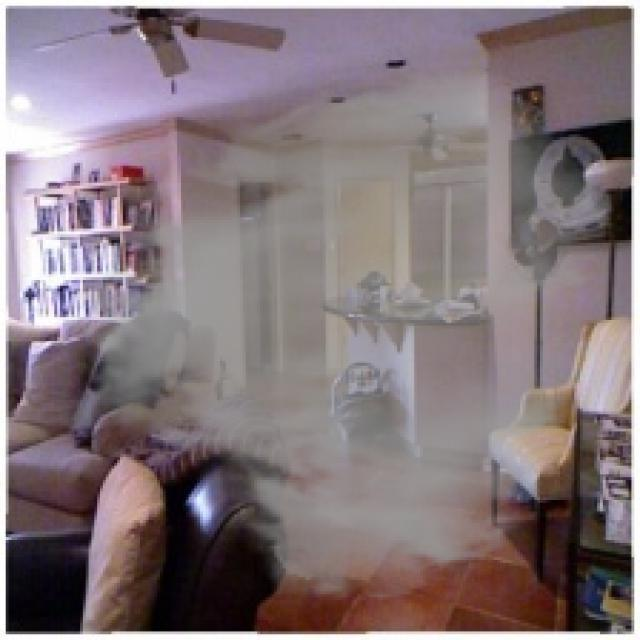Smoke: (57, 63, 612, 606)
